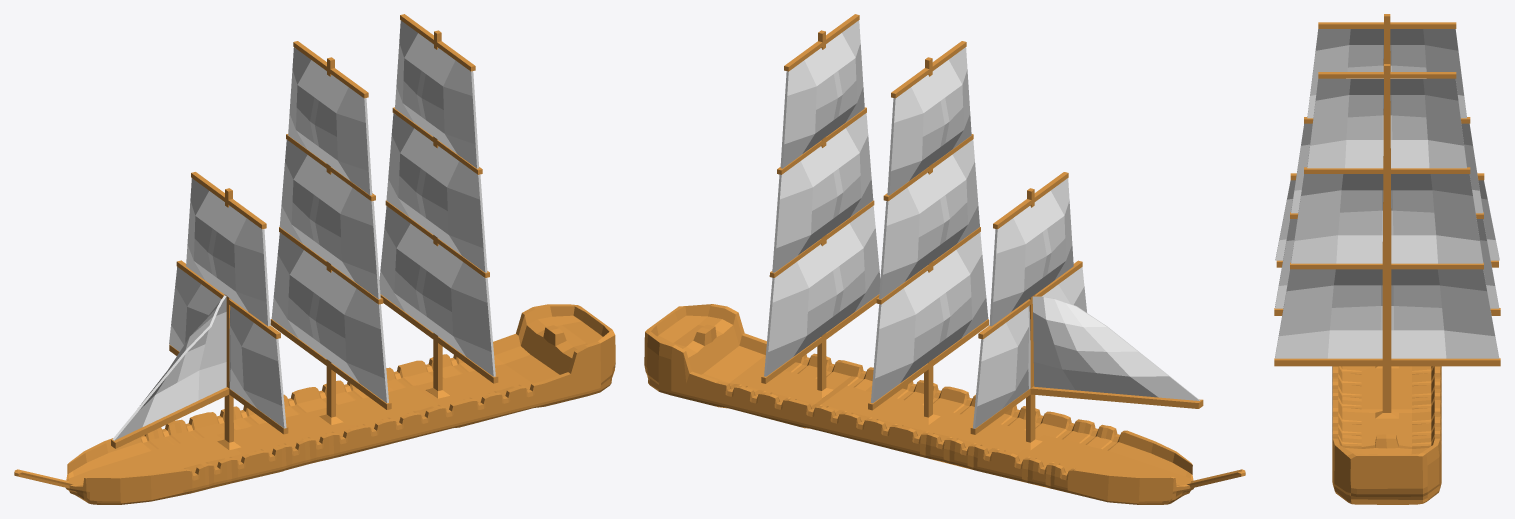
The model's file is frigate.glb.
3 views of the same model, side by side, from view 1: azimuth 30°, elevation 25°; view 2: azimuth 150°, elevation 25°; view 3: azimuth 270°, elevation 25° (orthographic). The views are drawn at different scales.
Parts seen in each view (by area): view 1: Cube; view 2: Cube; view 3: Cube.
Part boxes in pixels (<box>): Cube: <box>14,14,615,504</box>; Cube: <box>644,14,1245,504</box>; Cube: <box>1274,14,1500,504</box>.
Size of the model in its own units: 47.14 by 29.57 by 16.29.
